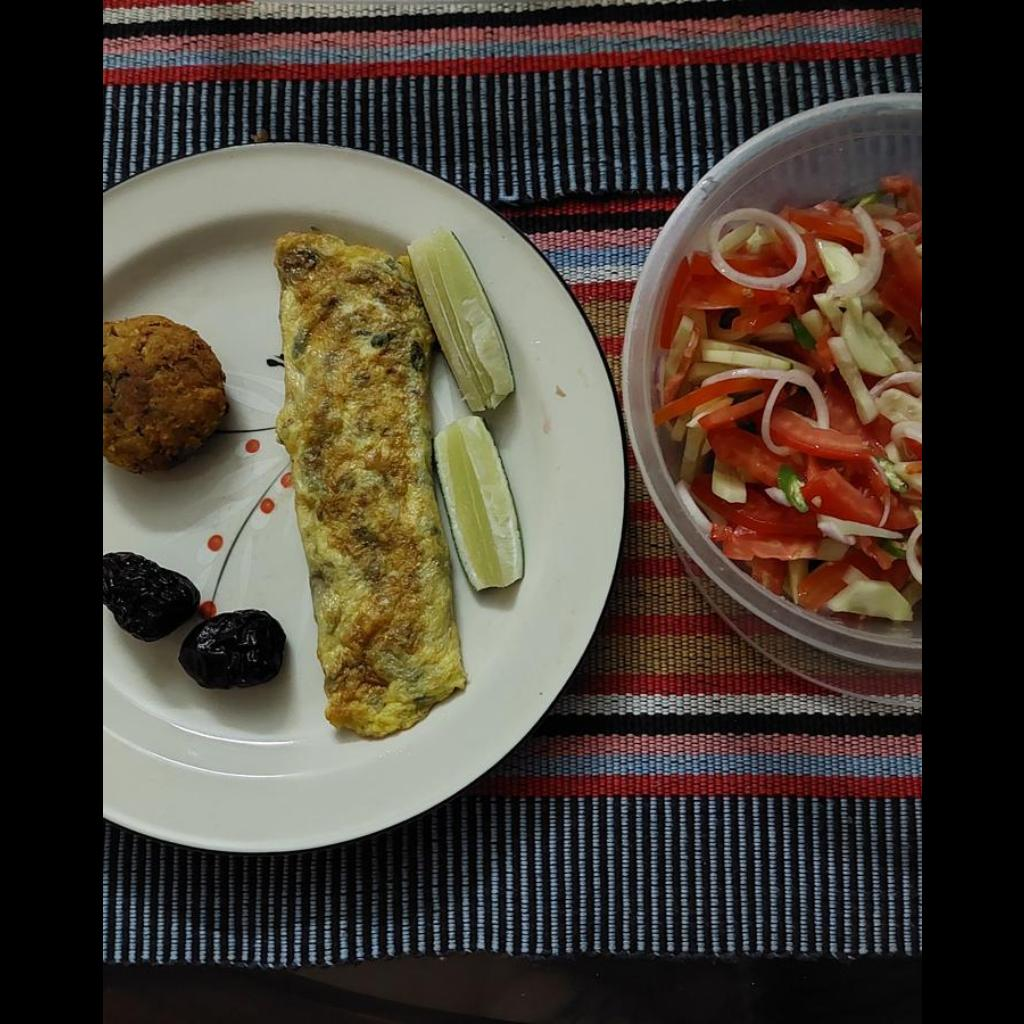dates: (102, 554, 286, 686)
egg-poached: (276, 230, 461, 728)
kabab: (104, 311, 234, 478)
lemon: (407, 230, 522, 589)
salad: (657, 199, 920, 615)
